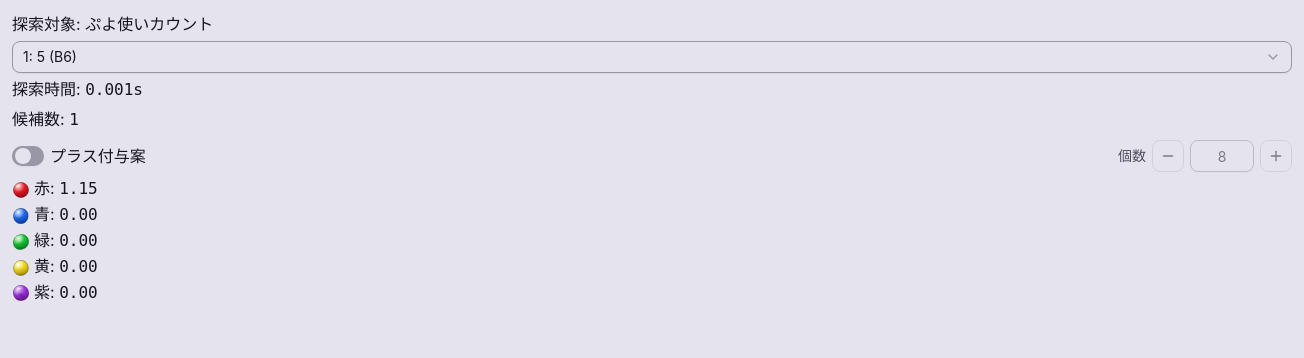
Test case: SolutionResultView › says so when no cell can take a plus
Click the switch named "プラス付与案".
click(28, 156)  # box [12,146,44,166]
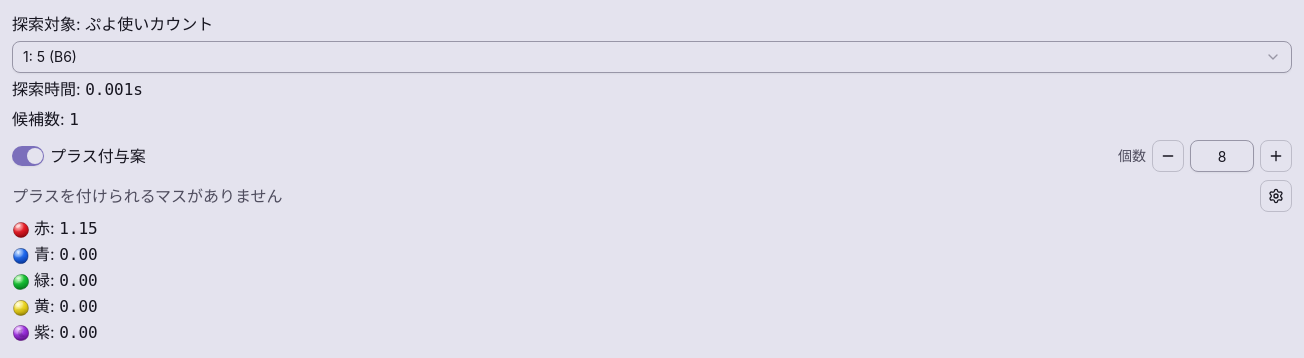
Check: the text "プラスを付けられるマスがありません" is shown, box [12,184,283,209]
